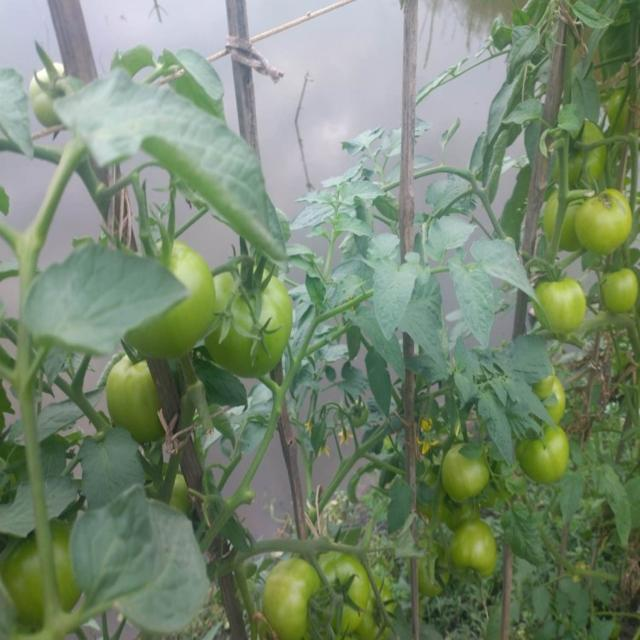tomato: (145, 237, 217, 349), (222, 265, 286, 380), (8, 533, 74, 614), (110, 353, 168, 441), (264, 562, 324, 638), (319, 548, 366, 628), (574, 191, 629, 253), (517, 425, 575, 482), (454, 527, 509, 587), (443, 440, 492, 499), (27, 60, 69, 123), (538, 282, 589, 330), (358, 576, 395, 640), (564, 124, 606, 180), (600, 266, 636, 312), (541, 375, 574, 420), (421, 556, 450, 600), (156, 478, 188, 516), (549, 192, 570, 235)
